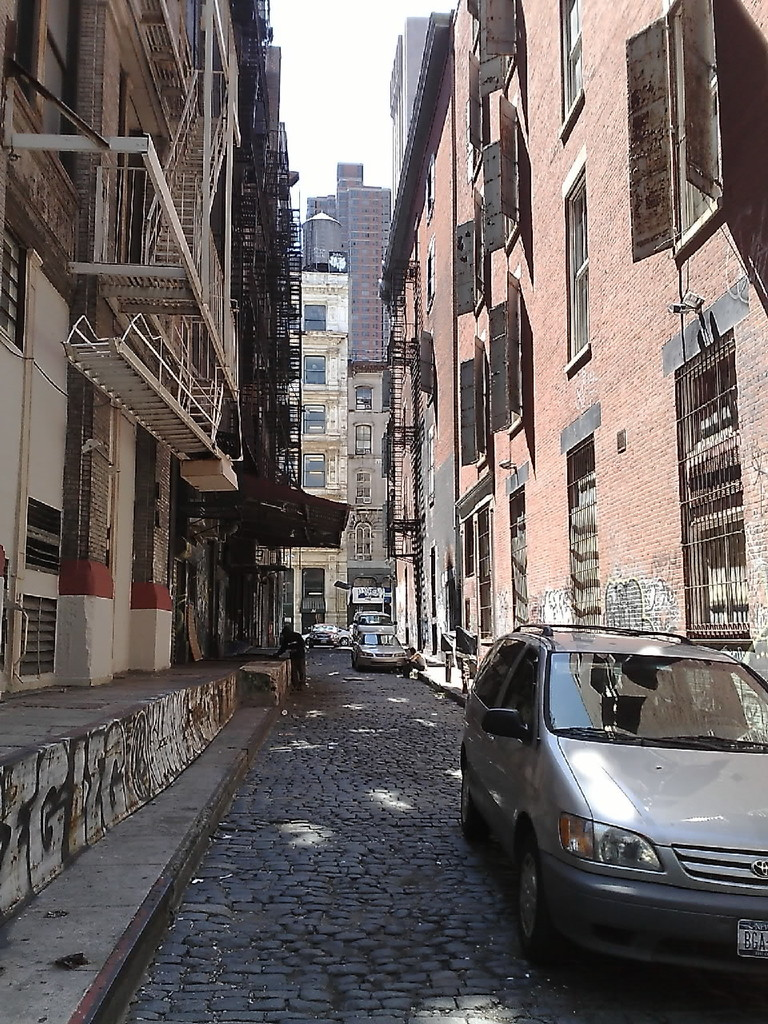cars: (457, 621, 766, 969), (354, 626, 404, 674)
